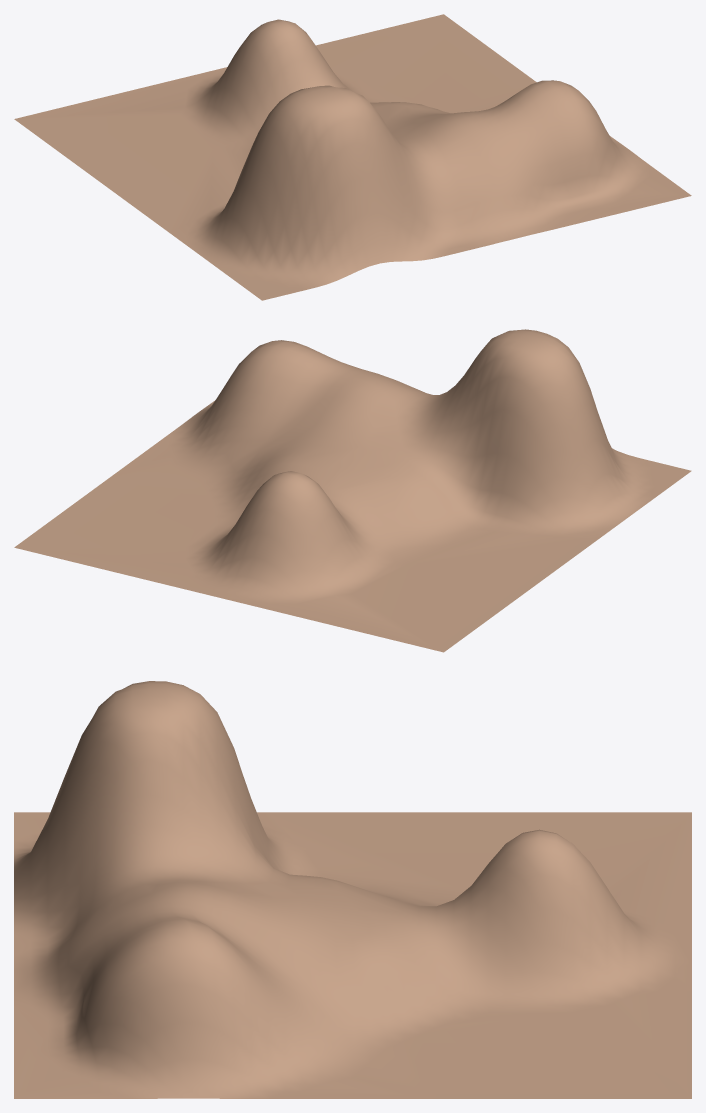
Rendered from island2.FBX.
3 views of the same model, one above another, from view 1: azimuth 30°, elevation 25°; view 2: azimuth 150°, elevation 25°; view 3: azimuth 270°, elevation 25° (orthographic). The views are drawn at different scales.
Visible parts, largest first — view 1: plane; view 2: plane; view 3: plane.
Part boxes in pixels (x1=…): plane: x1=14, y1=14, x2=691, y2=300; plane: x1=14, y1=329, x2=691, y2=652; plane: x1=14, y1=681, x2=691, y2=1098.
Size of the model in its own units: 118 by 37.45 by 118.
